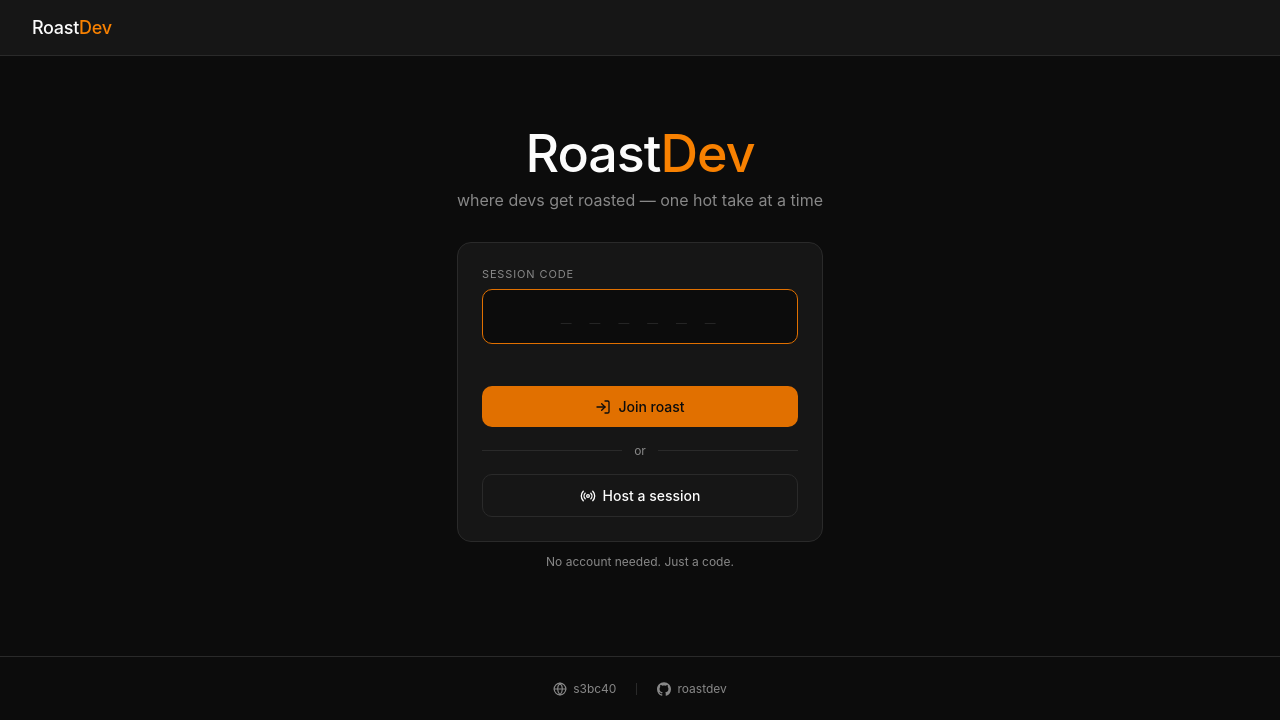
Scenario: Home › shows an error when the session is not found (404)
Type "ZZZZZZ" into the field with placeholder "_ _ _ _ _ _" at (640, 316), box [482, 289, 798, 344]
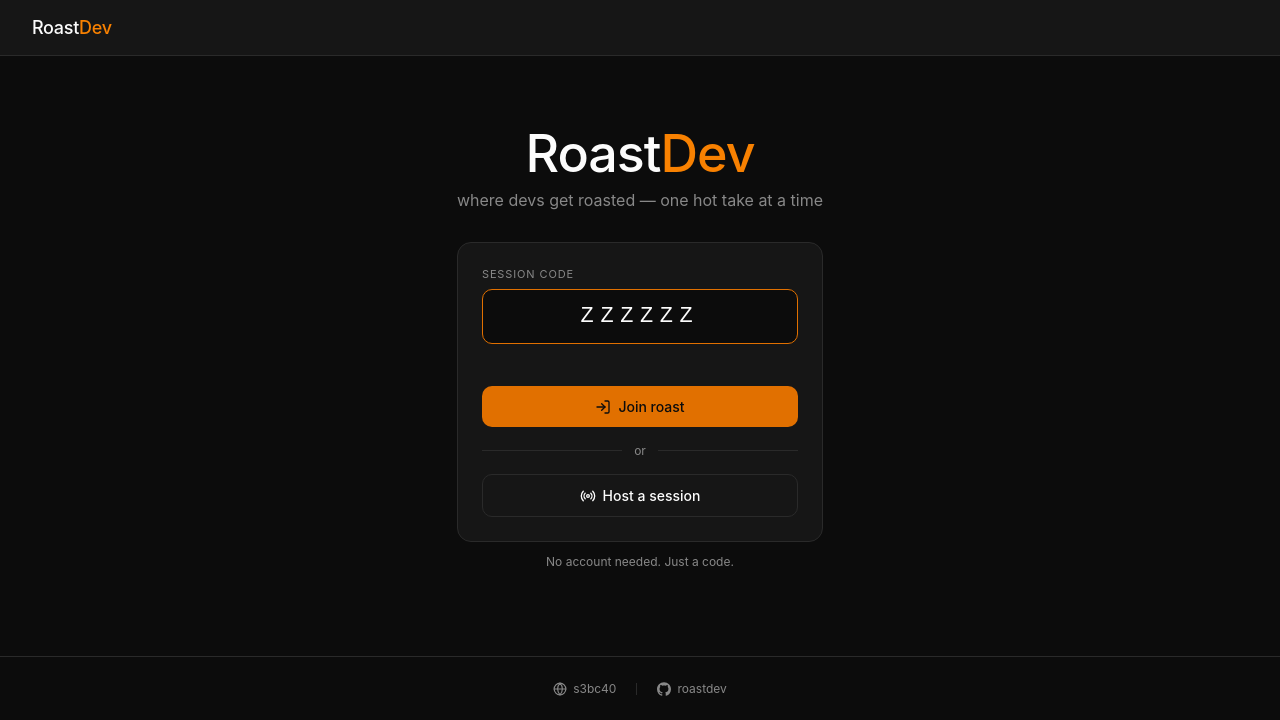
Click the button "Join roast" at (640, 406), box [482, 386, 798, 427]
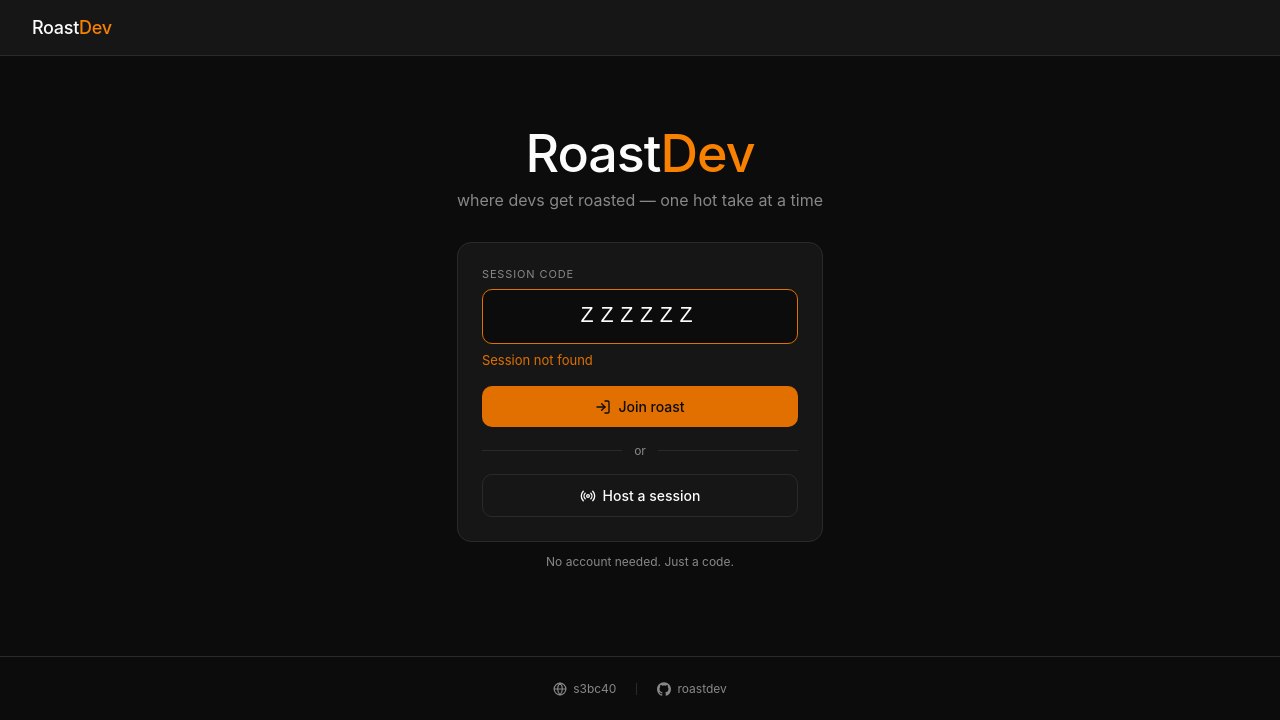
Expected: the text "Session not found" is shown, [482, 352, 593, 368]
